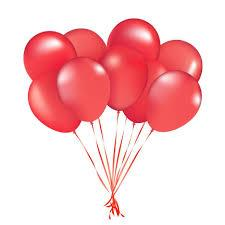red: (148, 69, 203, 131), (58, 57, 111, 119), (148, 38, 205, 92), (98, 46, 146, 109), (24, 30, 78, 85), (28, 74, 81, 129), (62, 26, 107, 76), (109, 18, 160, 61), (121, 76, 157, 124)
